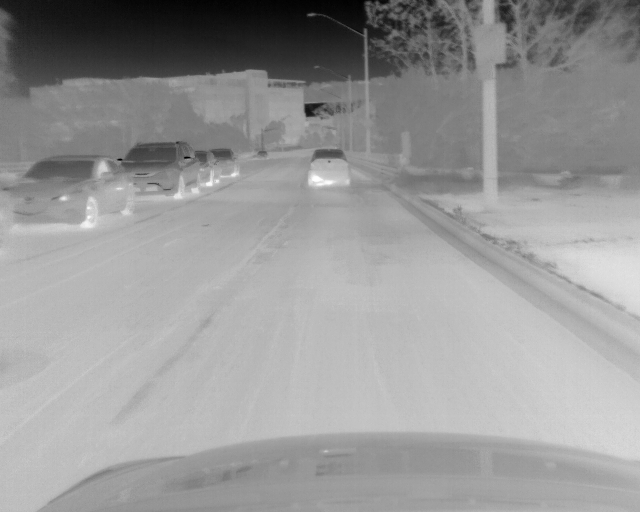car: (1, 154, 133, 228), (126, 139, 197, 198), (307, 148, 351, 187), (193, 150, 219, 190), (212, 147, 241, 180)
